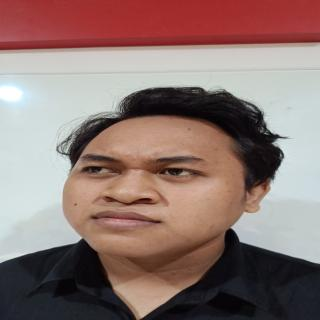Marah: (48, 112, 258, 264)
